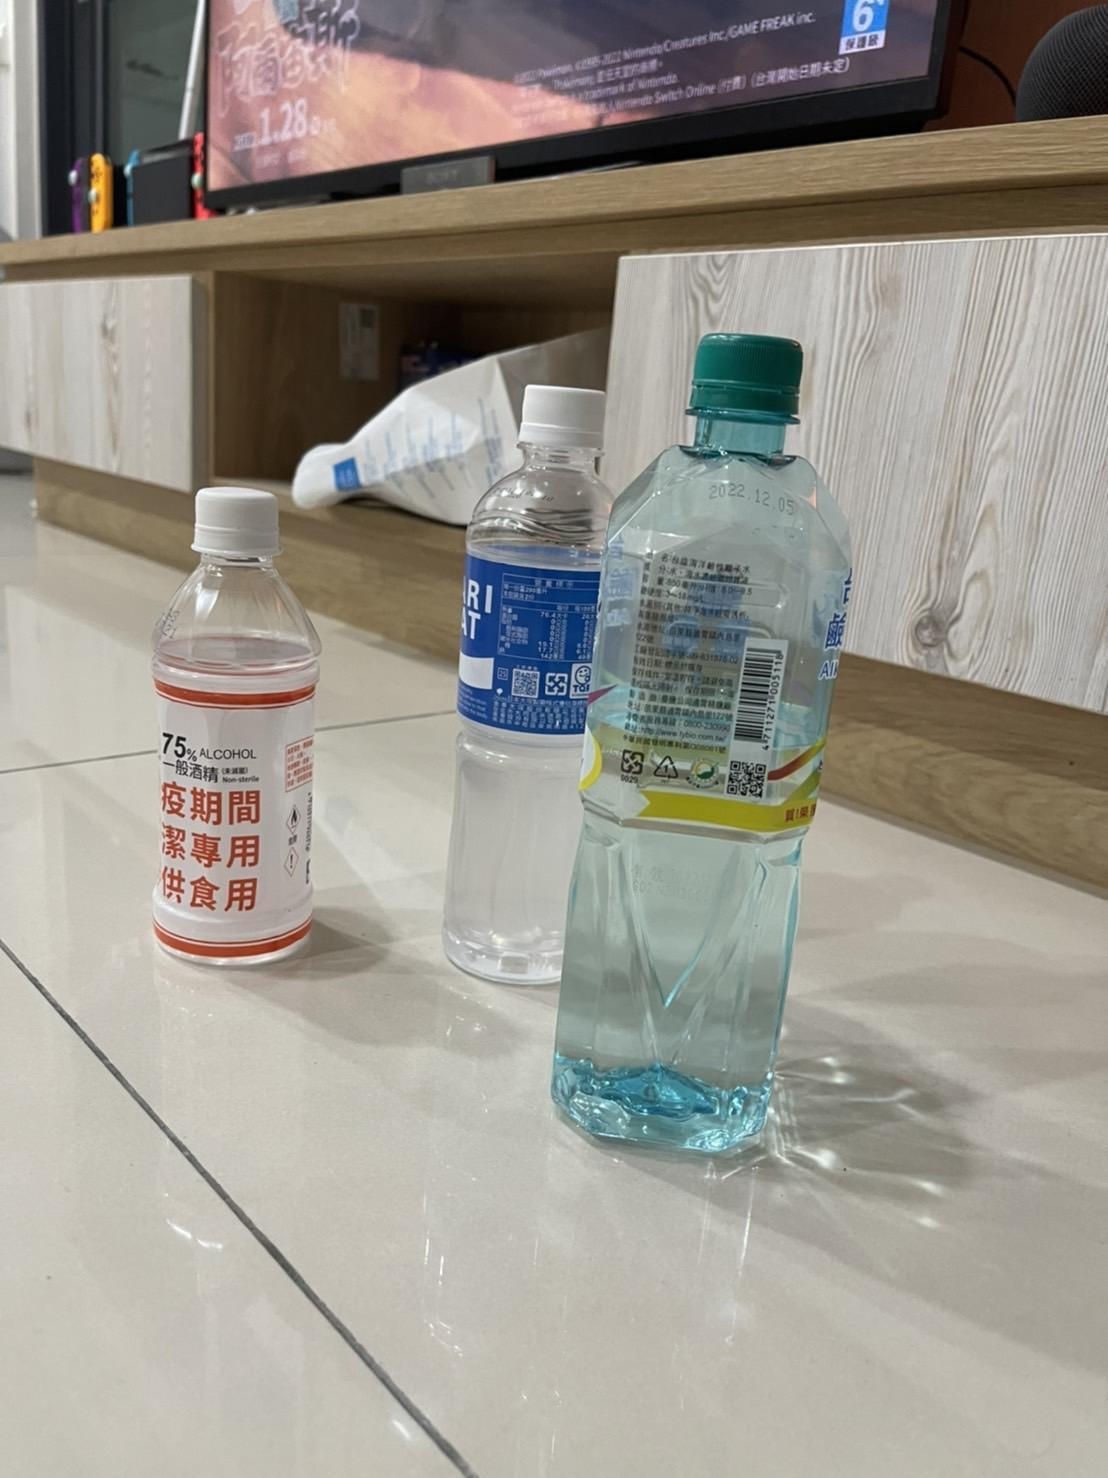bottle: (538, 320, 864, 1150), (436, 364, 644, 990), (140, 485, 327, 968)
